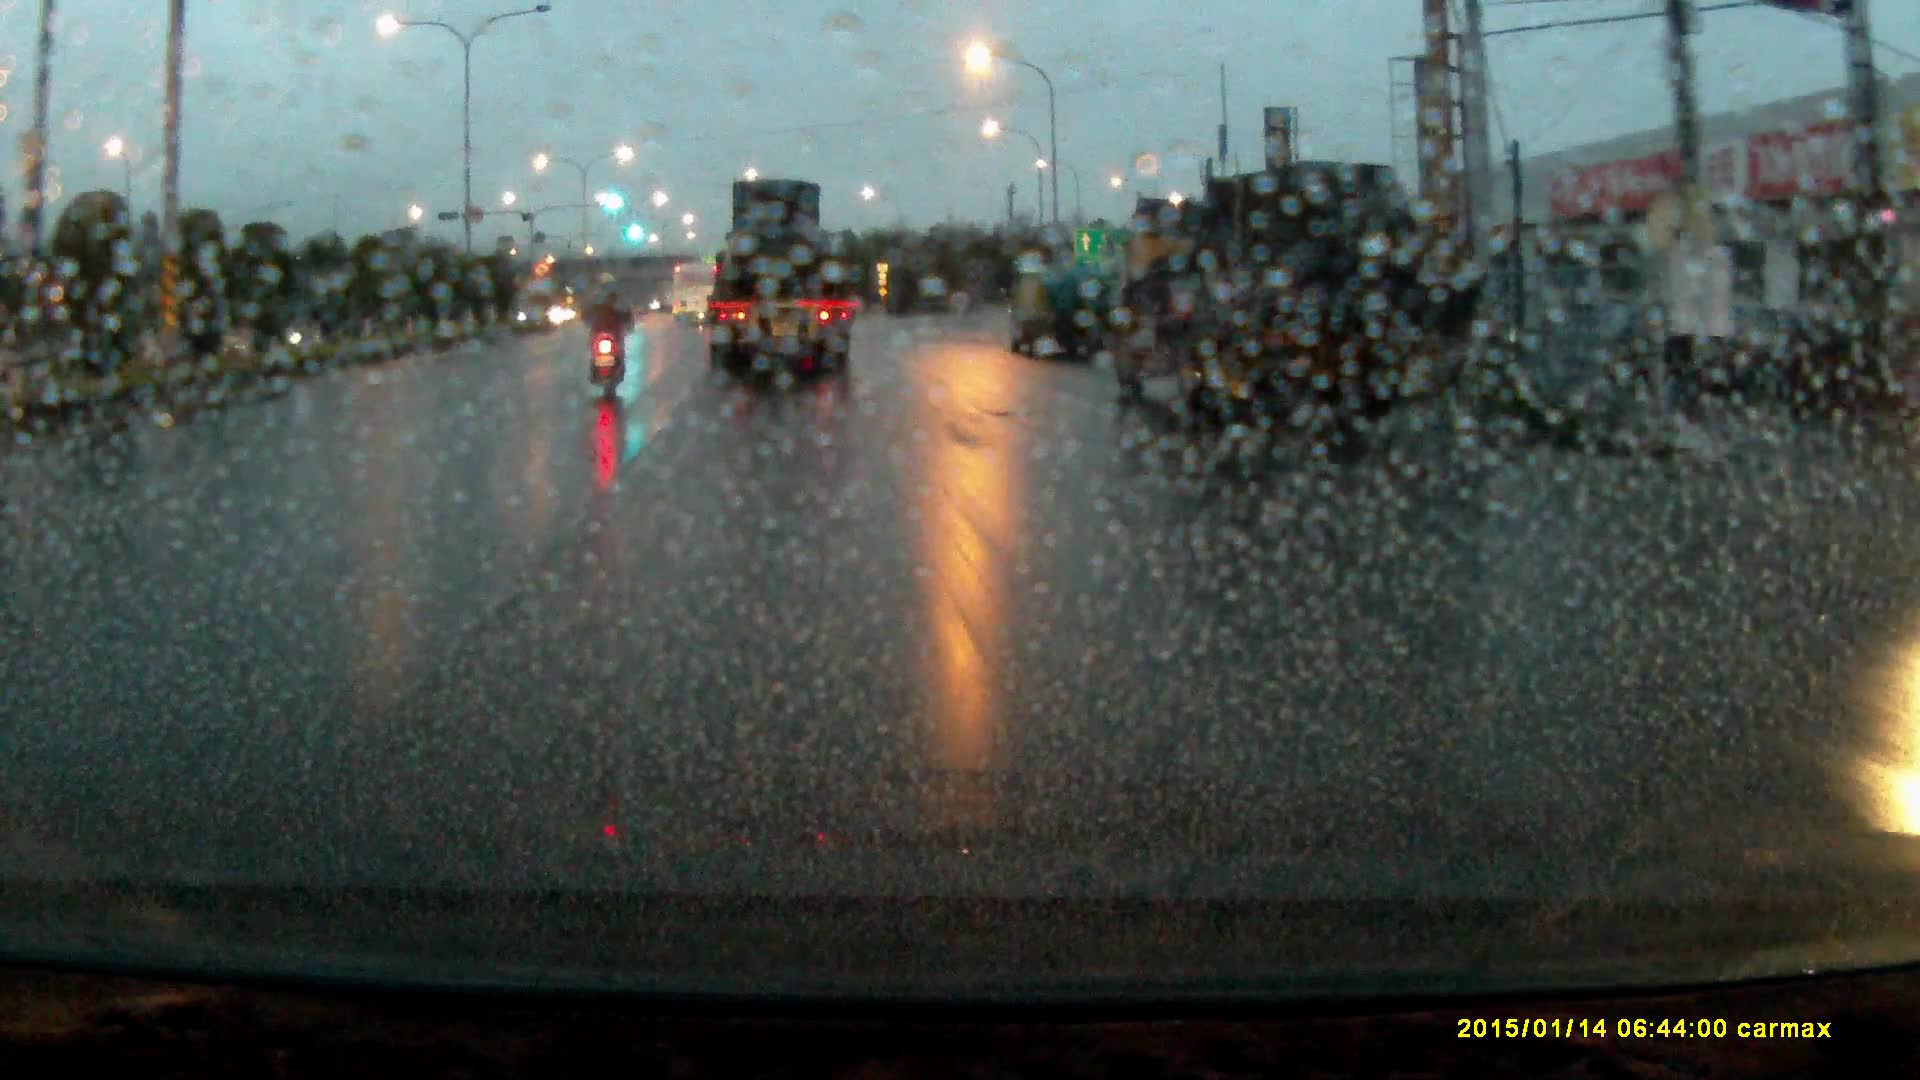rider: (581, 269, 635, 395)
vehicle: (1111, 159, 1421, 447), (703, 172, 858, 377), (1008, 259, 1110, 359), (673, 260, 716, 324), (591, 282, 636, 325)
